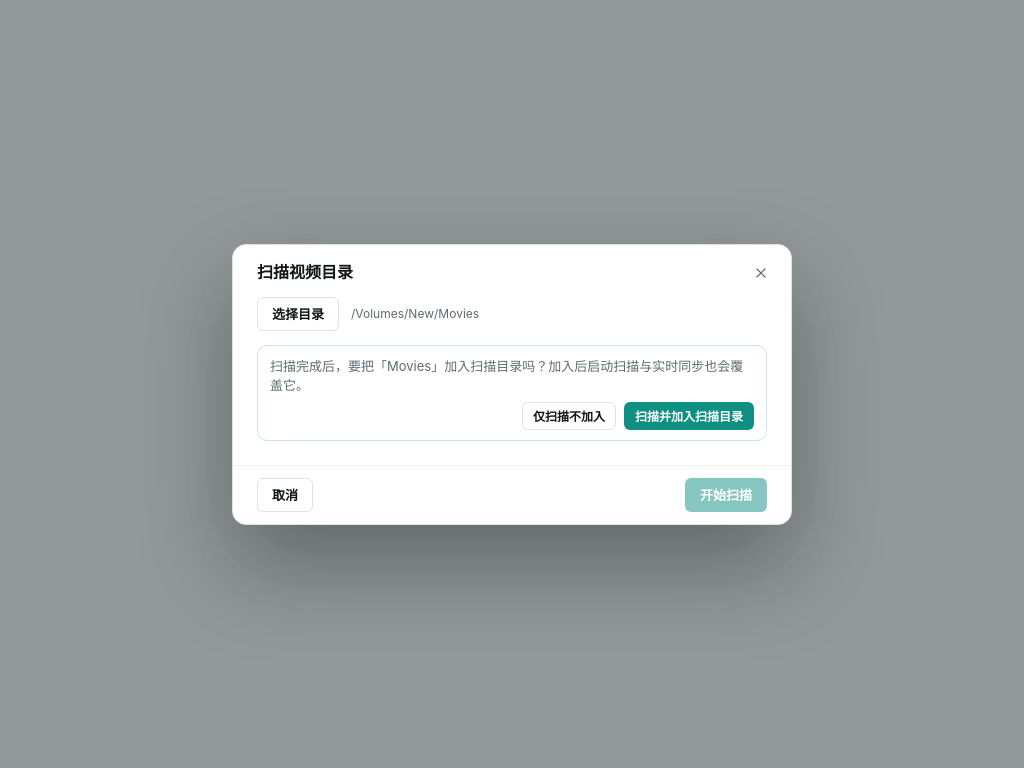
Scenario: 加入扫描目录前先确认 › LIB-14 选了新目录先问要不要加入；选「扫描并加入」扫完才加入
Expected: the element with test id "scan-root-confirm" shows "要把「Movies」加入扫描目录吗", 270,358 -> 743,392
Click the button with test id "scan-and-add" at coordinates (689, 416), box 624,402 -> 754,430
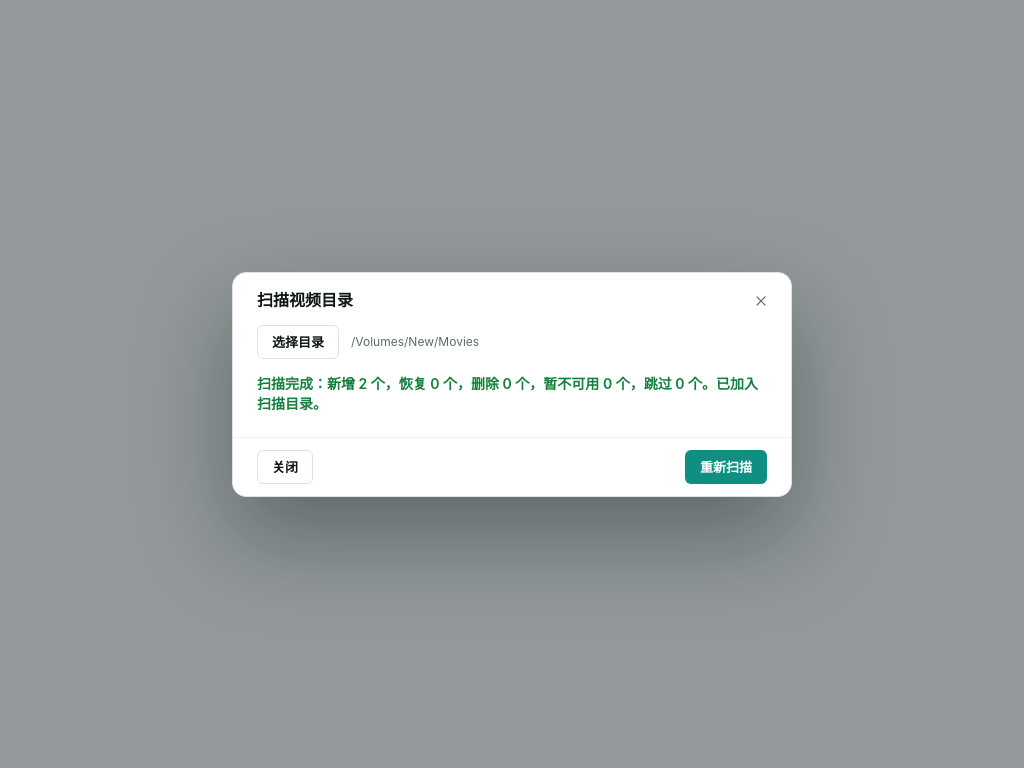
Result: the message with test id "scan-result" shows "已加入扫描目录" at 257,374 -> 758,412
